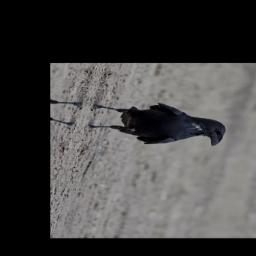Crow: (81, 94, 233, 155)
